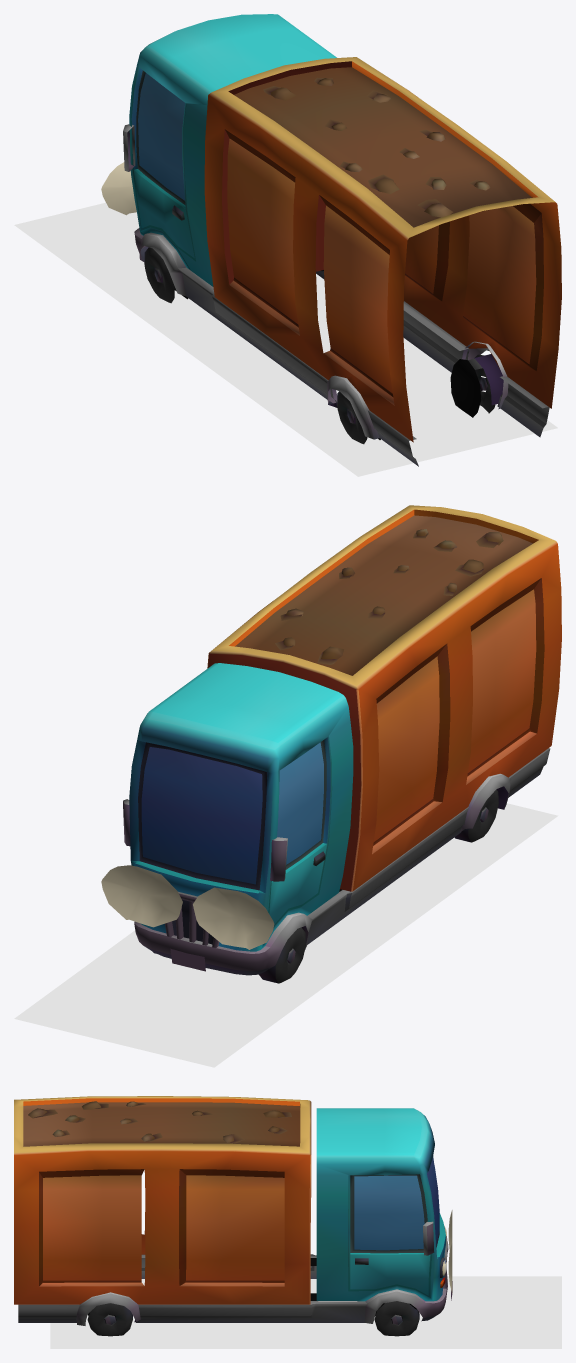
The model's file is City_Double4_Truck01.fbx.
The picture shows the model from 3 angles, top to bottom: view 1: azimuth 30°, elevation 25°; view 2: azimuth 150°, elevation 25°; view 3: azimuth 270°, elevation 25°; orthographic projection. The views are drawn at different scales.
Parts seen in each view (by area): view 1: city_double4_truck01, truck01Shadow, truckLights; view 2: city_double4_truck01, truck01Shadow, truckLights; view 3: city_double4_truck01, truck01Shadow, truckLights.
Part boxes in pixels (box(x1,y1,x2,y2)): city_double4_truck01: box(123, 14, 561, 466); truck01Shadow: box(14, 202, 557, 476); truckLights: box(101, 162, 136, 215); city_double4_truck01: box(123, 505, 561, 983); truck01Shadow: box(14, 803, 558, 1067); truckLights: box(101, 865, 274, 949); city_double4_truck01: box(14, 1096, 452, 1336); truck01Shadow: box(50, 1276, 561, 1348); truckLights: box(442, 1210, 452, 1293).
Bounding box in the file's own units: 148 × 188 × 470.
